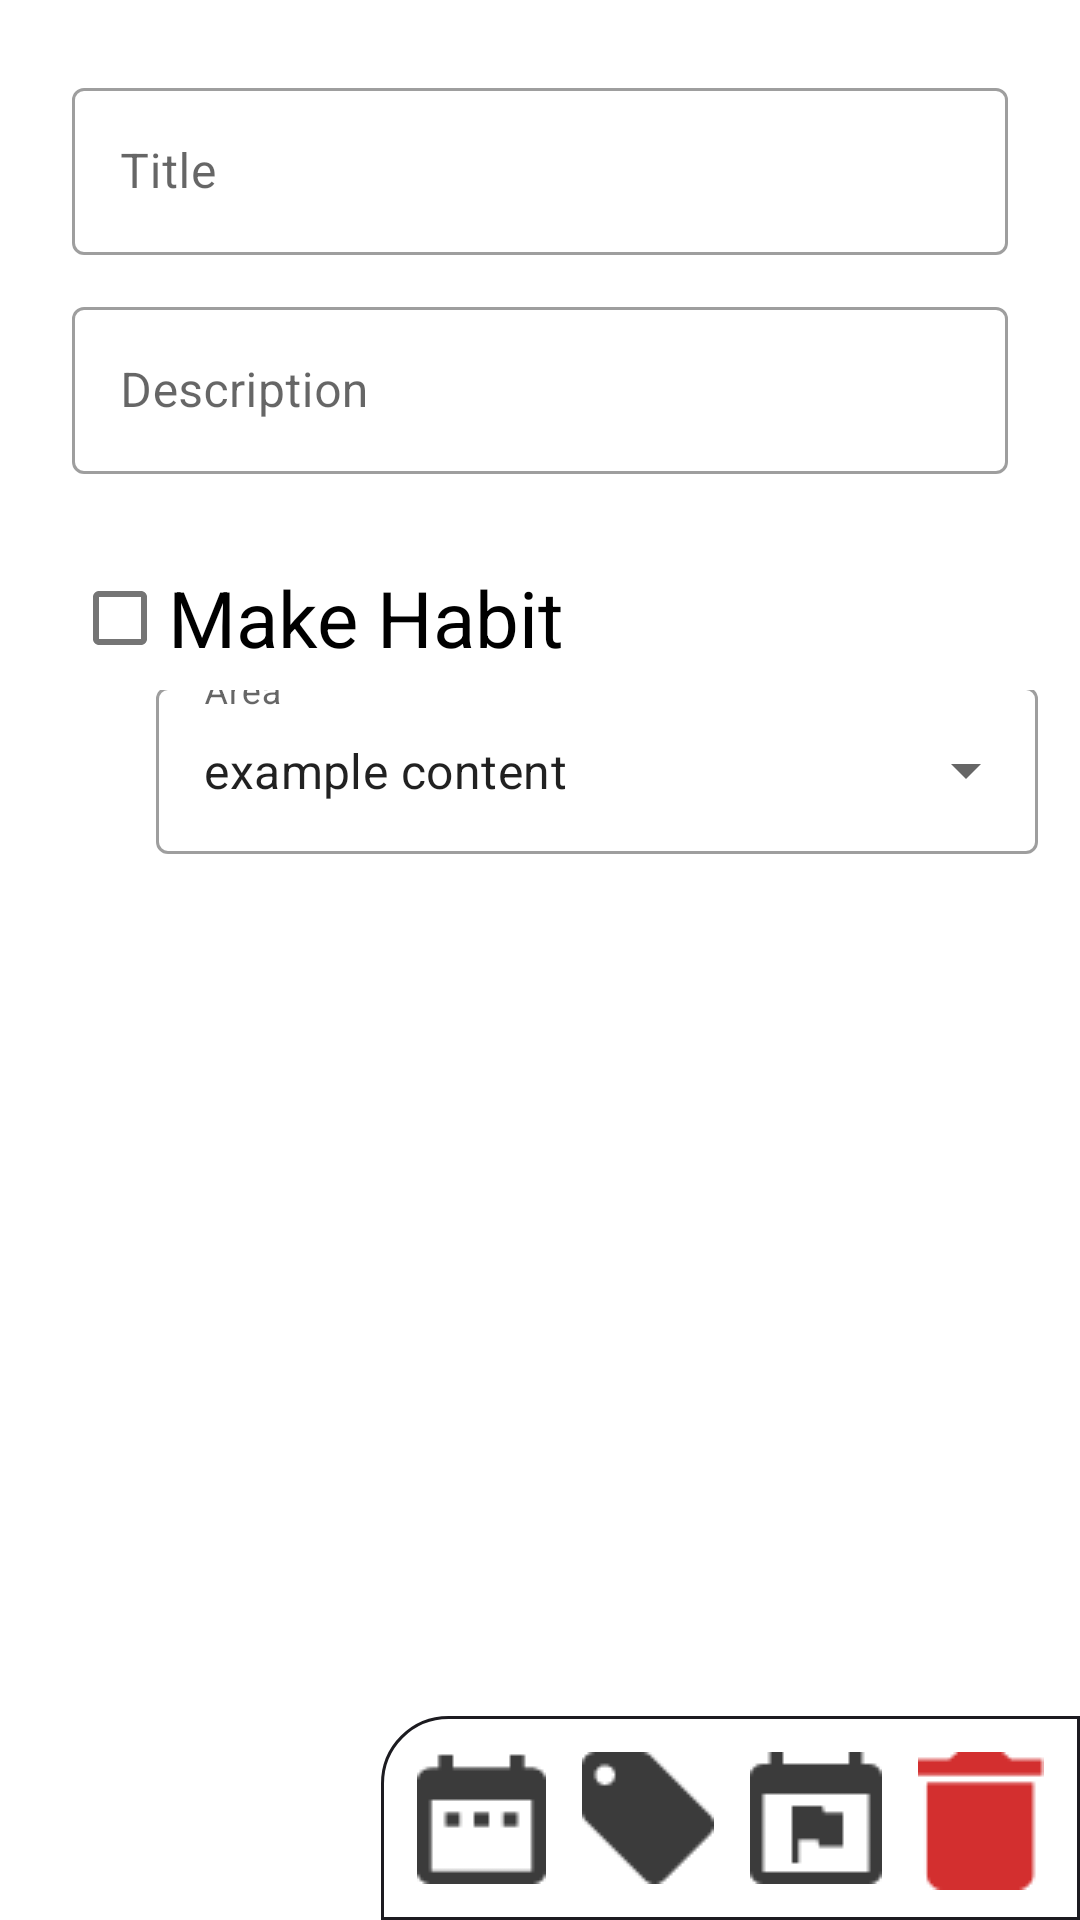

Icon bounding boxes for this 1080*1920 phone screenshot, format (x1, y1, x2, y2):
deadline: (750, 1752, 882, 1884)
delete: (918, 1752, 1044, 1890)
tag: (582, 1752, 714, 1884)
when: (417, 1754, 546, 1884)
